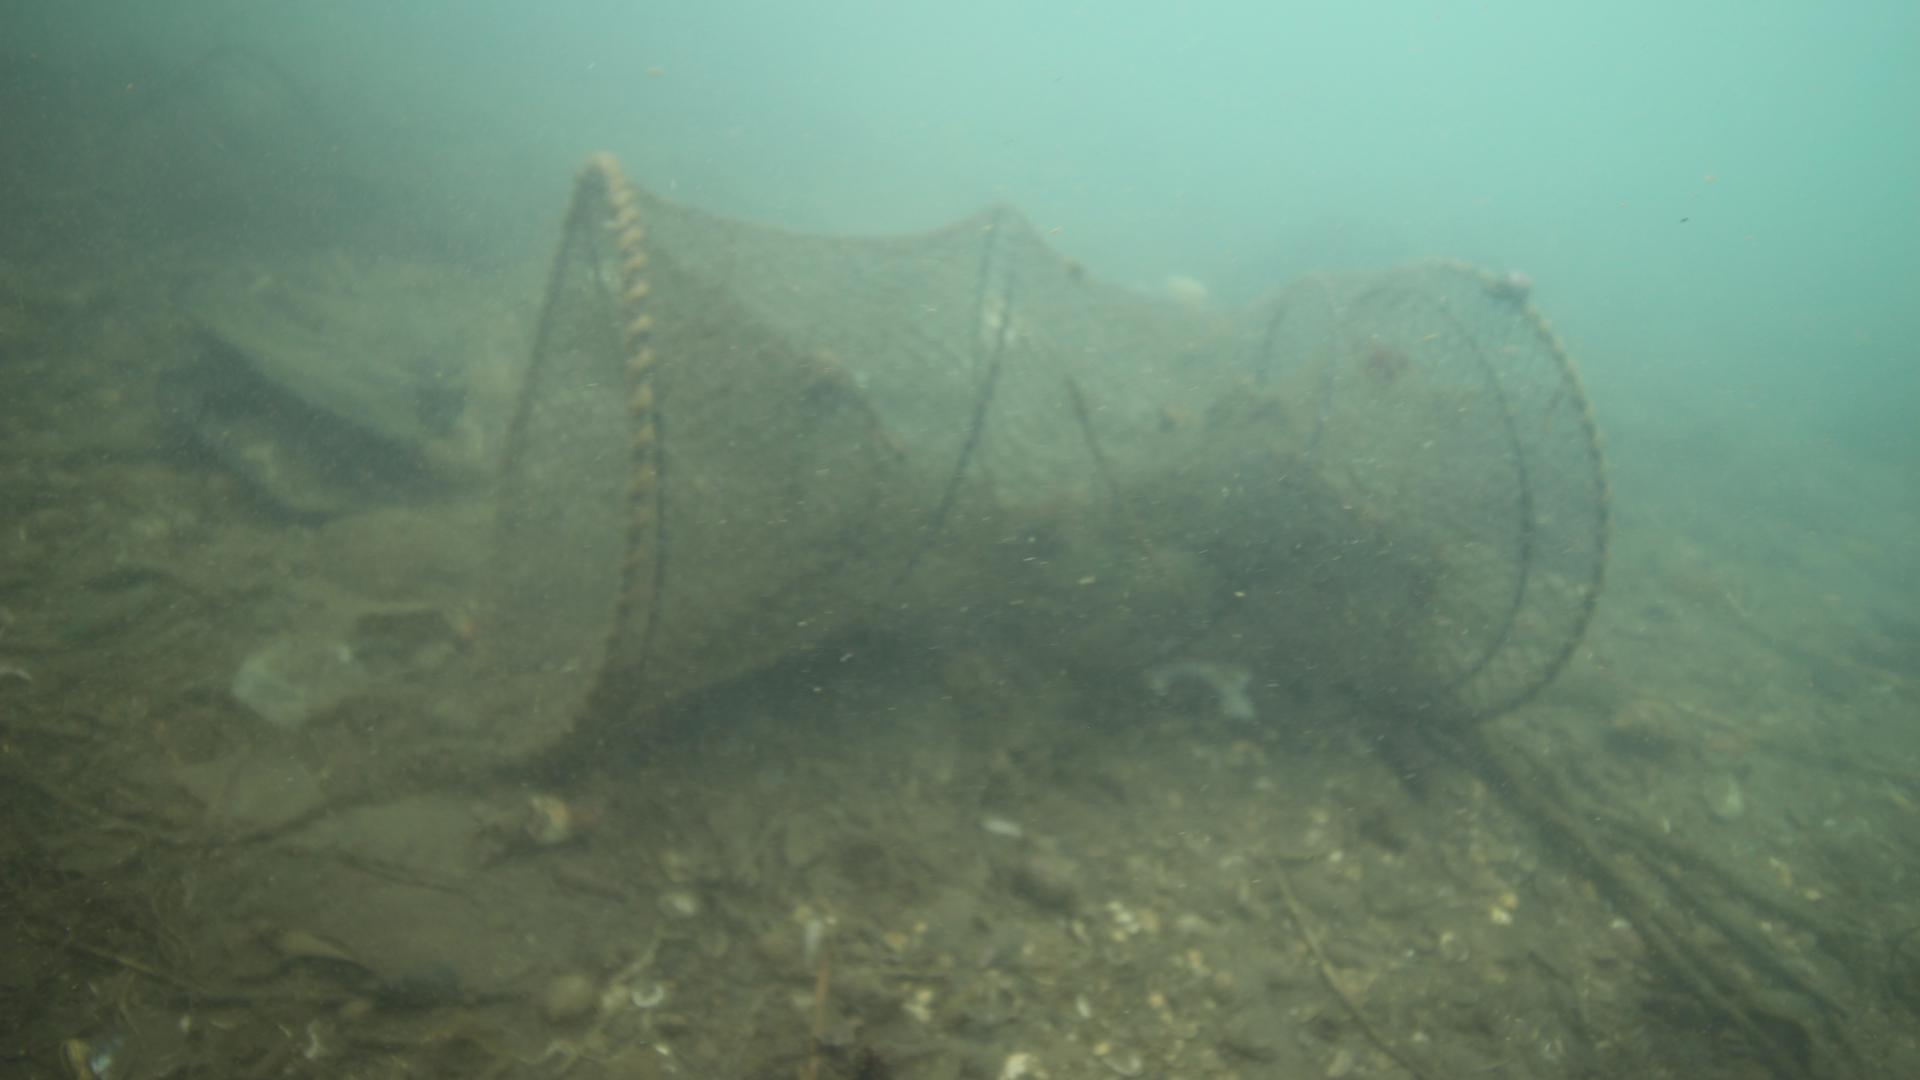spring fish trap: (473, 153, 1610, 783)
